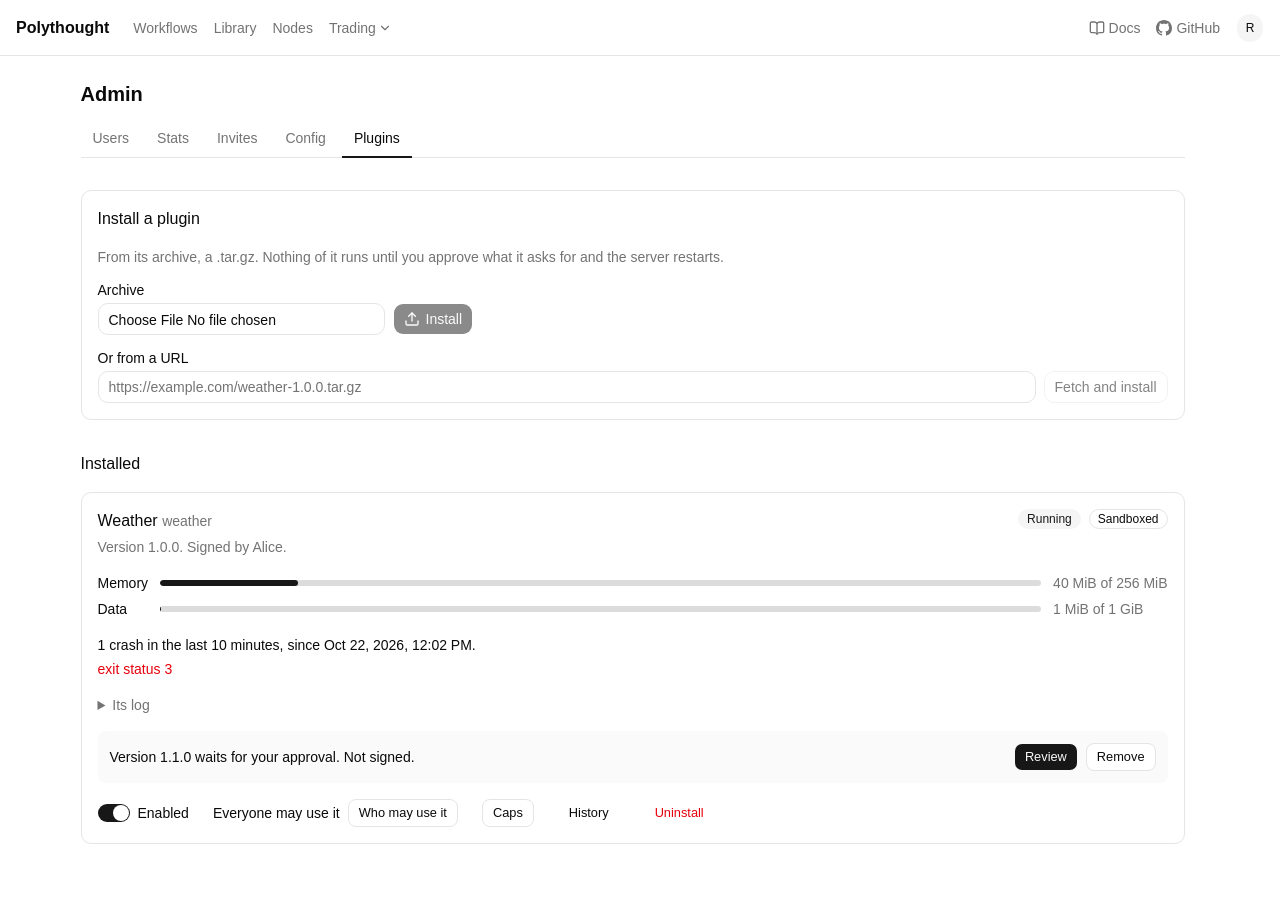
Test: admin plugins page › disables, and uninstalls, its data kept or removed too (D342, D348)
Click the switch named "Enabled". click: (114, 813)
box: [98,804,130,822]
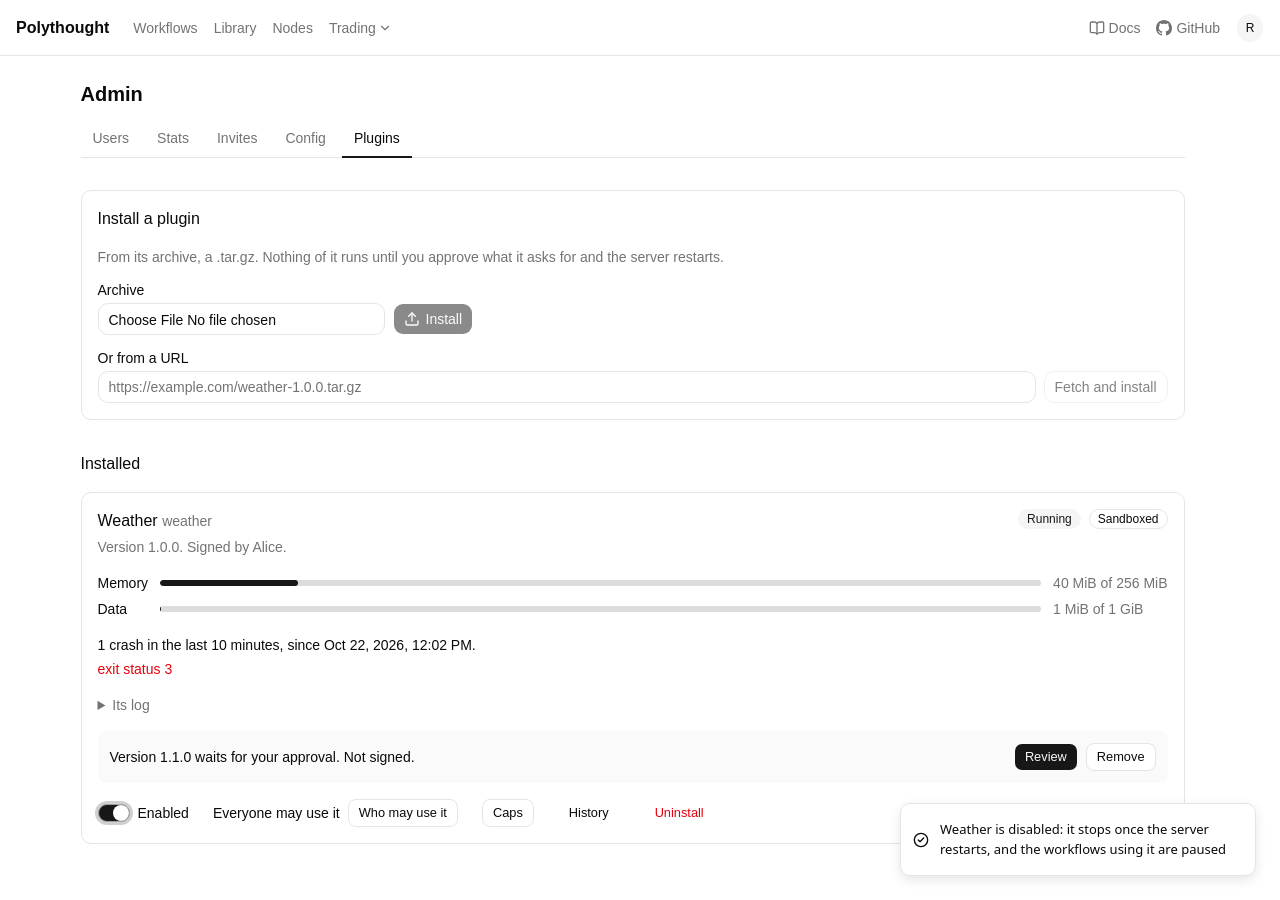
Click the button "Uninstall". click: (679, 813)
box: [644,799,715,827]
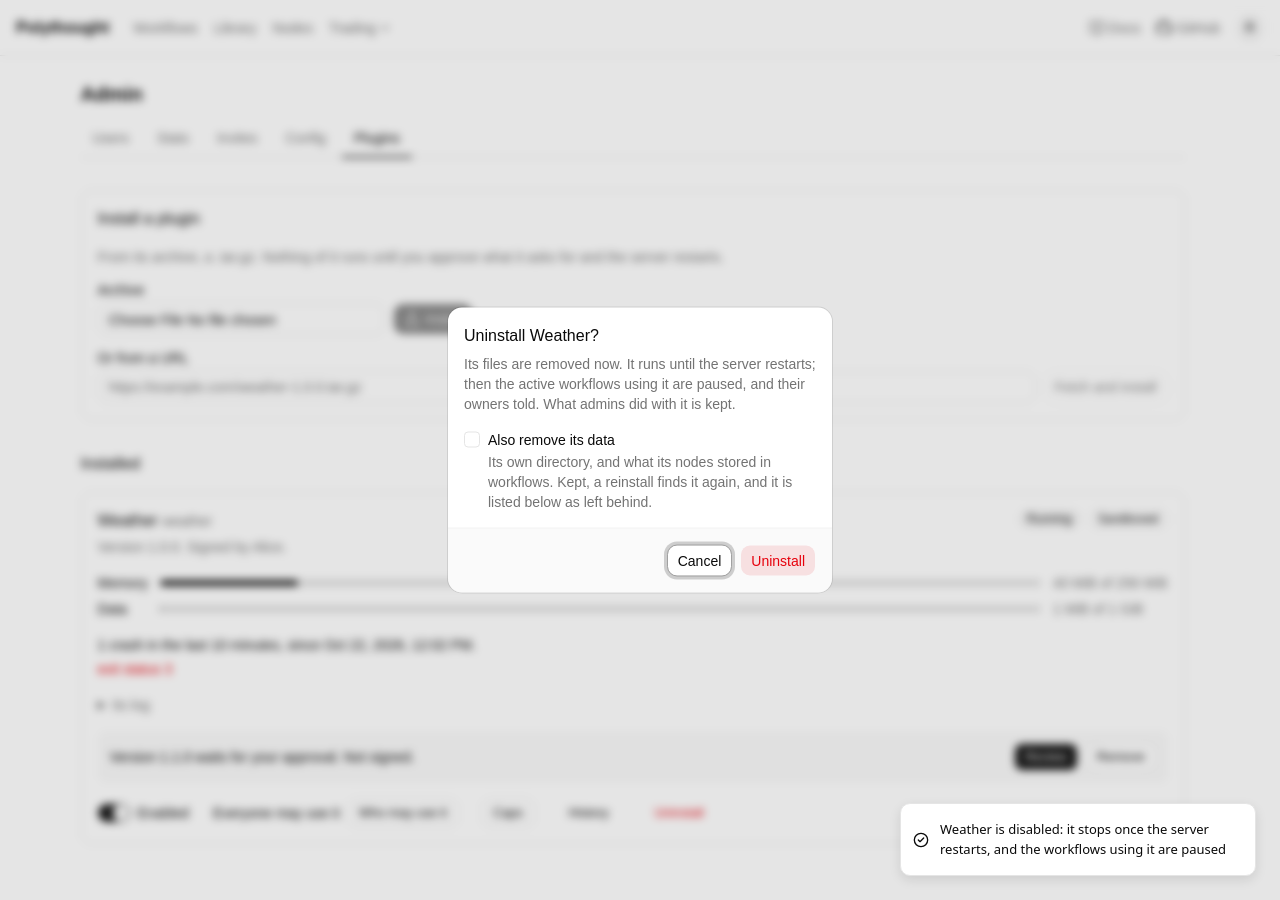
Now the checkbox named "Also remove its data" is not checked, box [464,432,480,448]
Click the button "Uninstall". click: (778, 560)
box: [740,544,816,576]
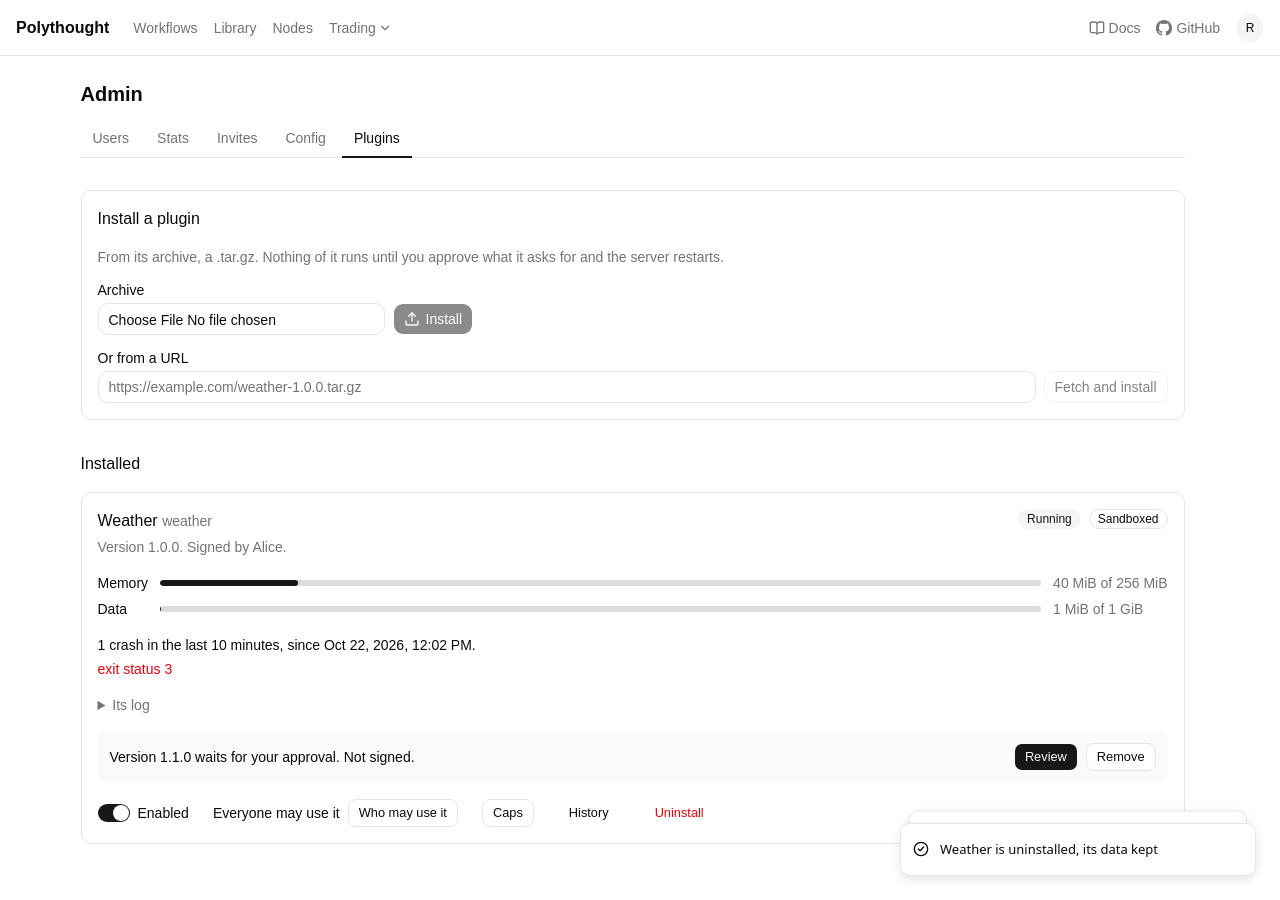
Now the text "Weather is uninstalled, its data kept" is shown, box [940,840,1158,859]
Click the button "Uninstall". click: (679, 813)
box: [644,799,715,827]
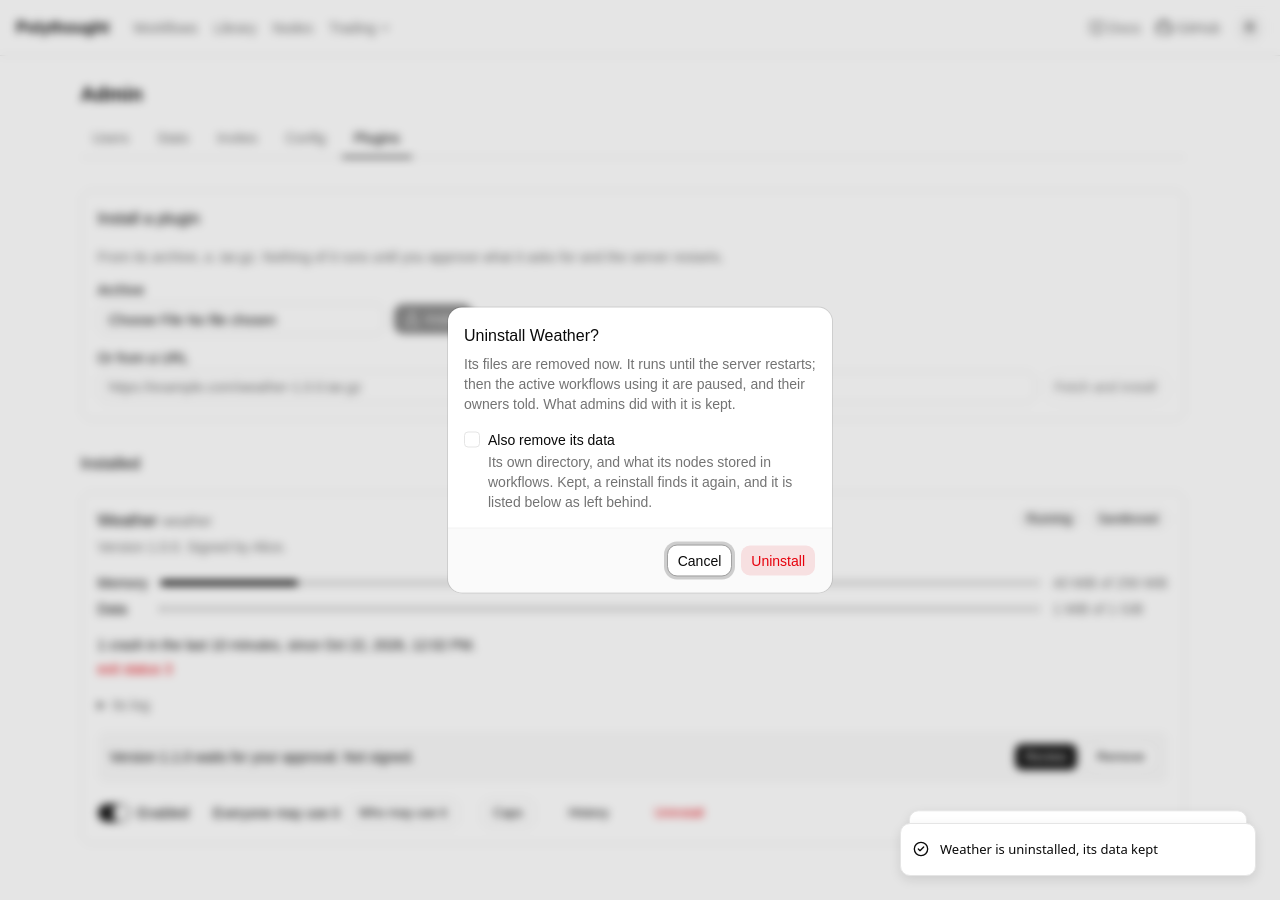
Click the checkbox named "Also remove its data". click: (472, 440)
box: [464,432,480,448]
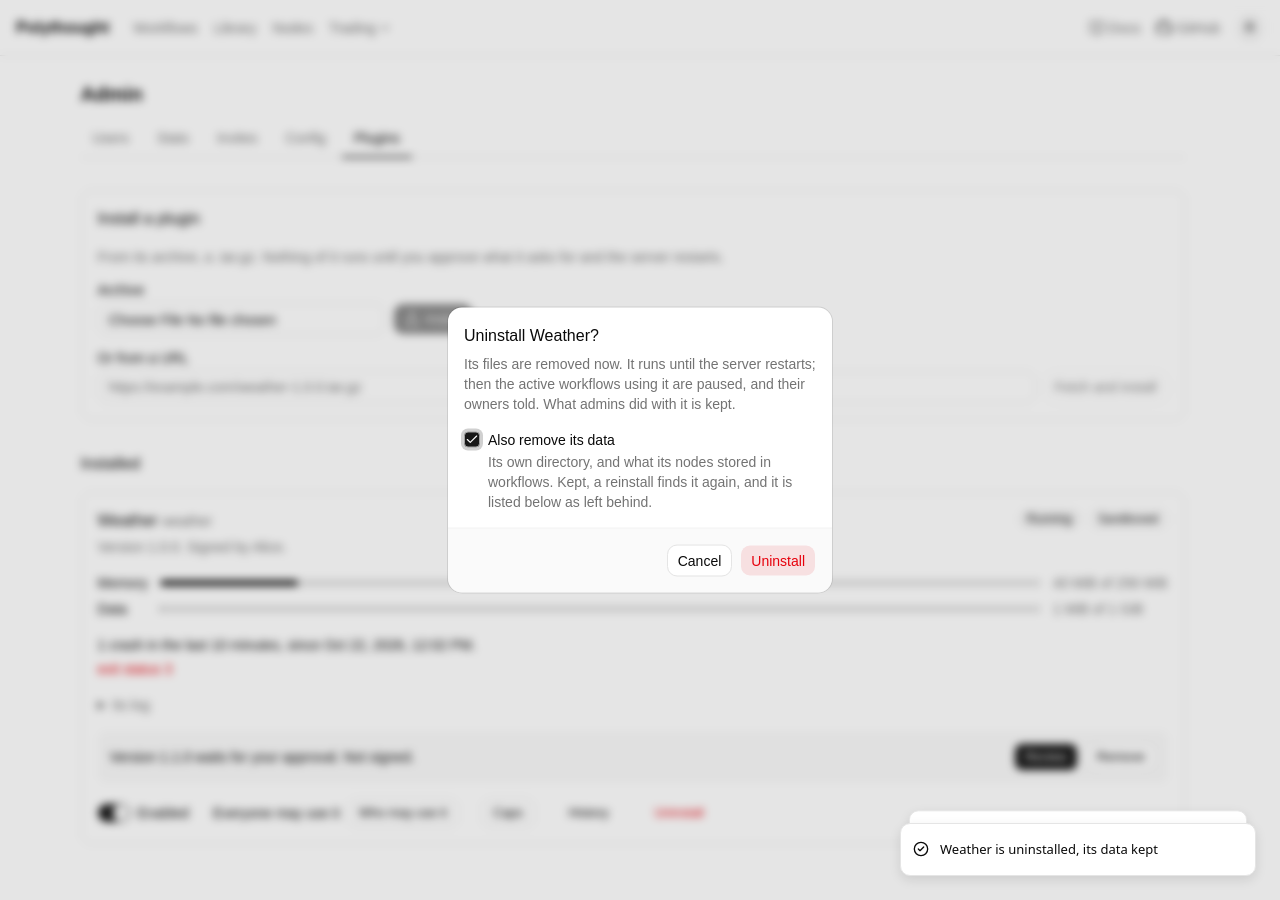
Click the button "Uninstall". click: (778, 560)
box: [740,544,816,576]
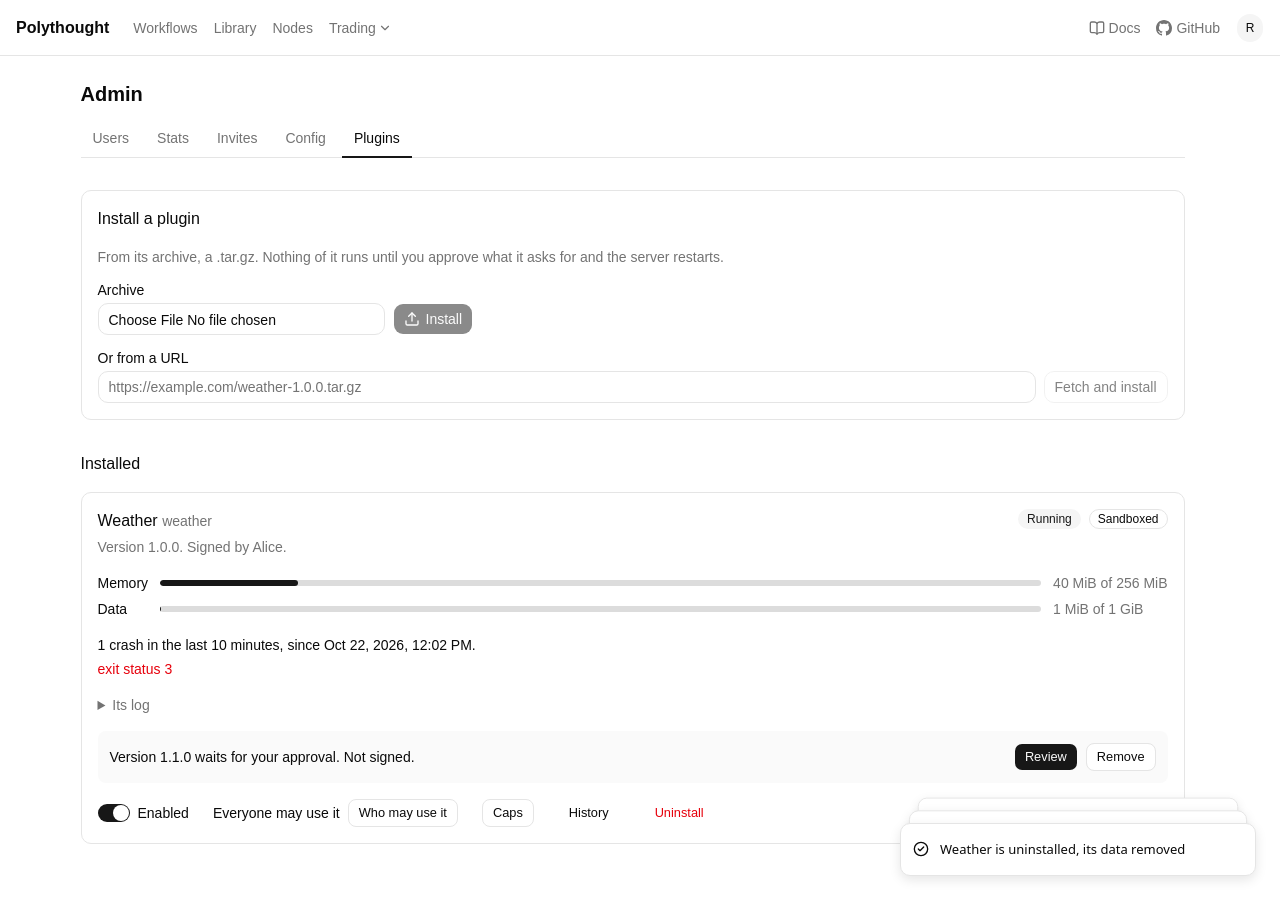
Now the text "Weather is uninstalled, its data removed" is shown, box [940,840,1185,859]
